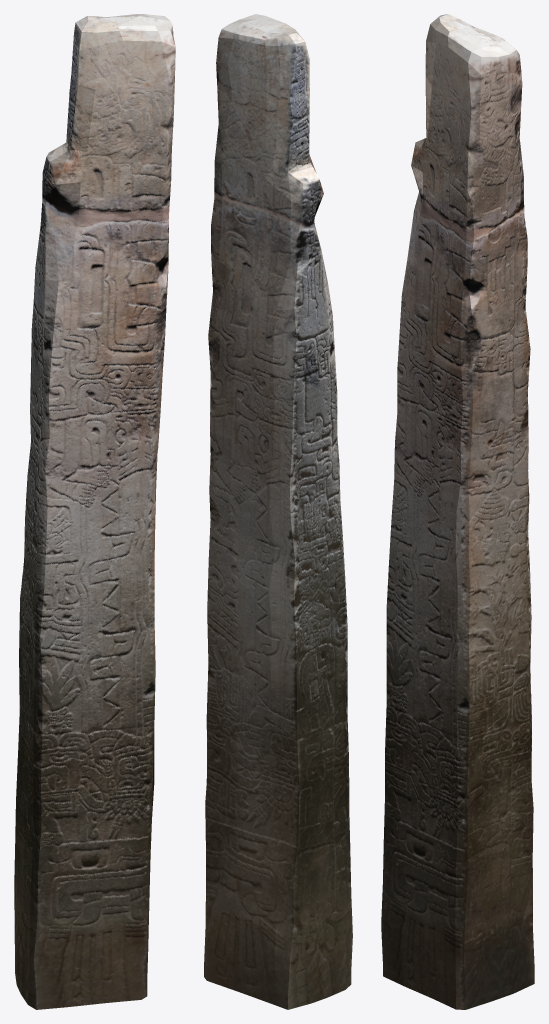
Rendered from 3_obelisco_tello.glb.
3 views of the same model, side by side, from view 1: azimuth 30°, elevation 25°; view 2: azimuth 150°, elevation 25°; view 3: azimuth 330°, elevation 25° (orthographic). The views are drawn at different scales.
Visible parts, largest first — view 1: Box001; view 2: Box001; view 3: Box001.
Part boxes in pixels (x1,y1,x2,y2): Box001: (14,14,175,1009); Box001: (204,14,352,1009); Box001: (381,14,534,1009).
Size of the model in its own units: 0.3247 by 2.21 by 0.2726.
Materials: 1 (1 with a texture image).
